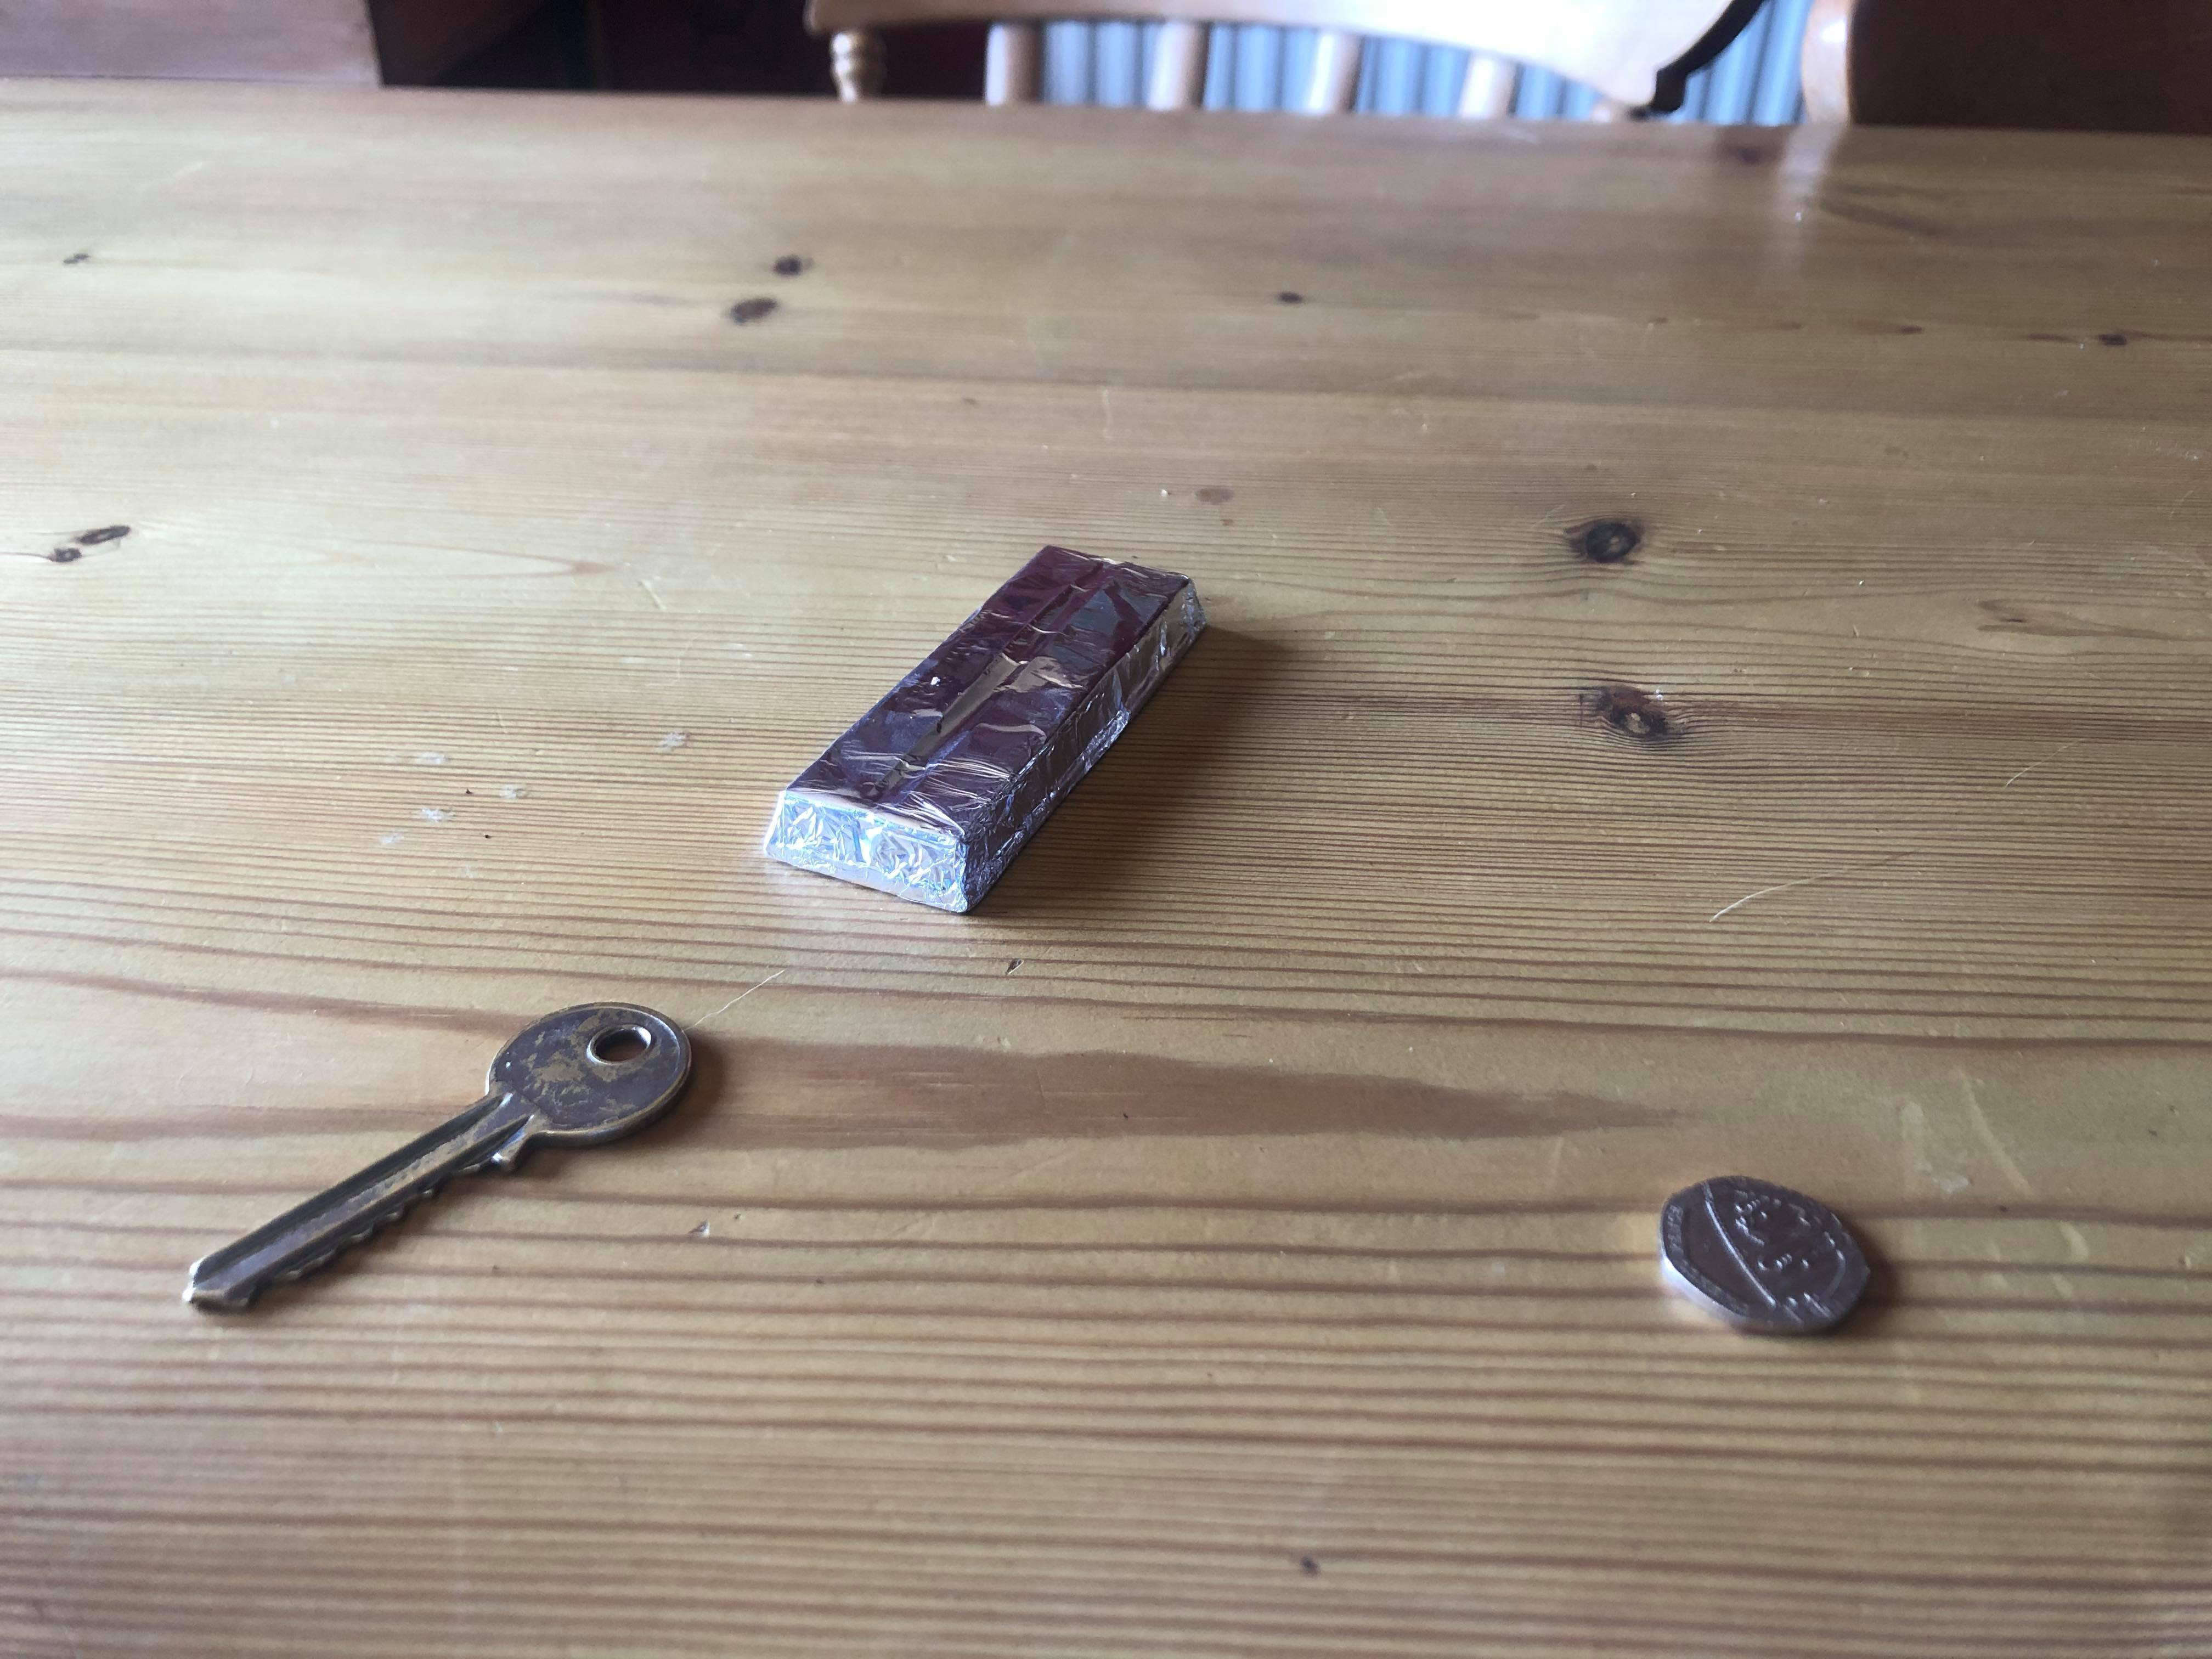Coin: (1644, 1173, 1874, 1340)
Foil: (758, 538, 1214, 932)
Key: (174, 995, 705, 1324)
